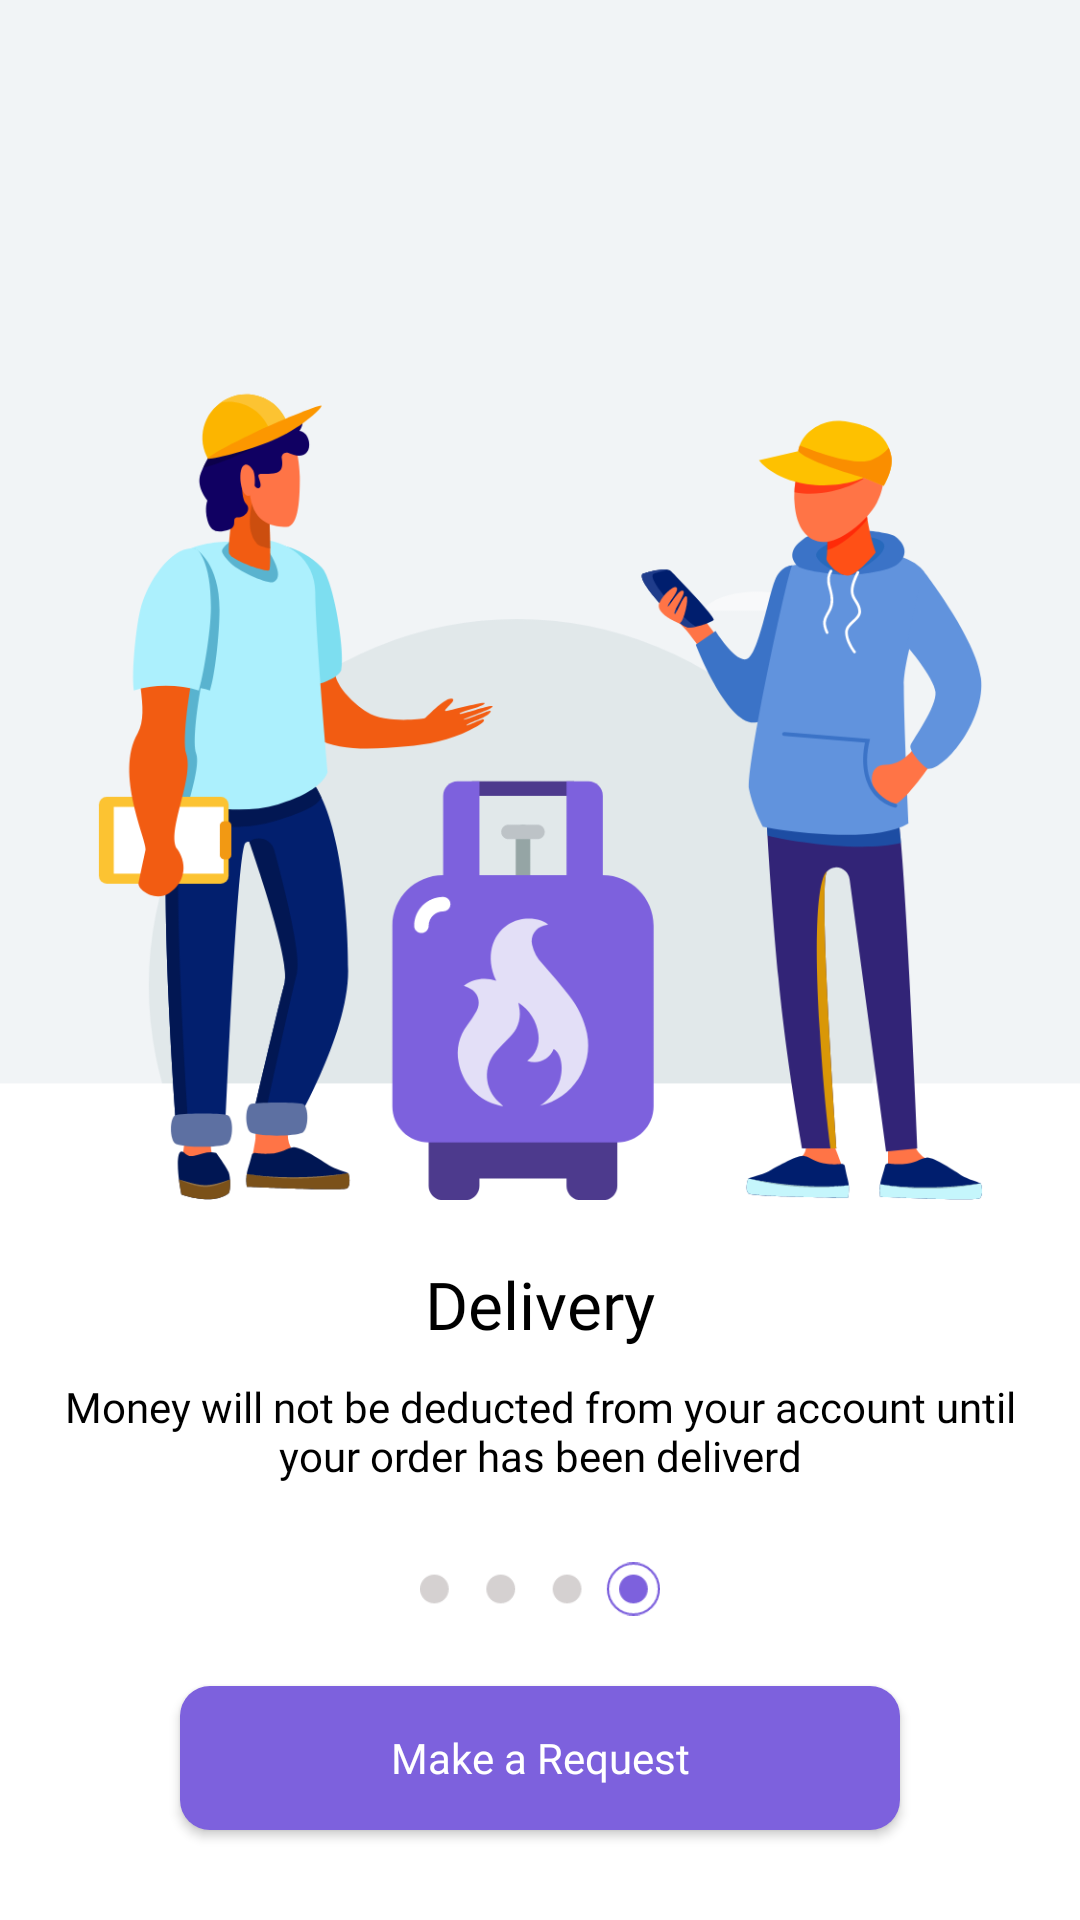

Where to tap for icons on this 1080×1920 app screen, as (x=x, y=y):
dot: (x=540, y=1589)
